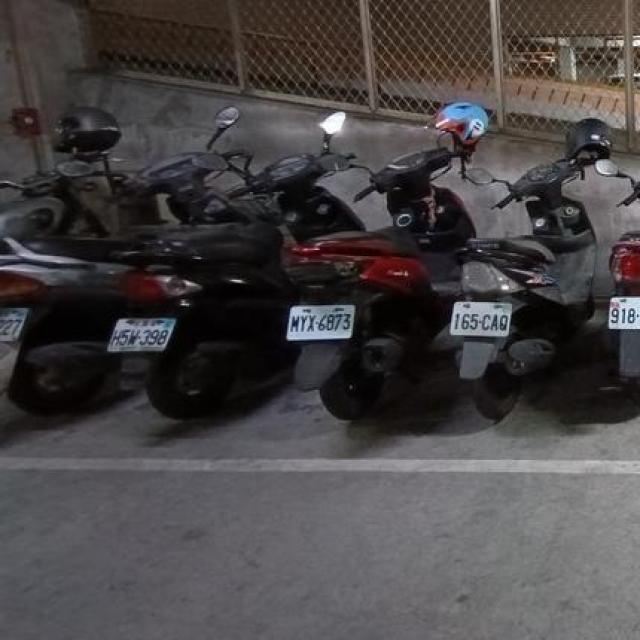W: (104, 305, 179, 360), (283, 294, 360, 346), (448, 292, 515, 342), (604, 289, 640, 335)
